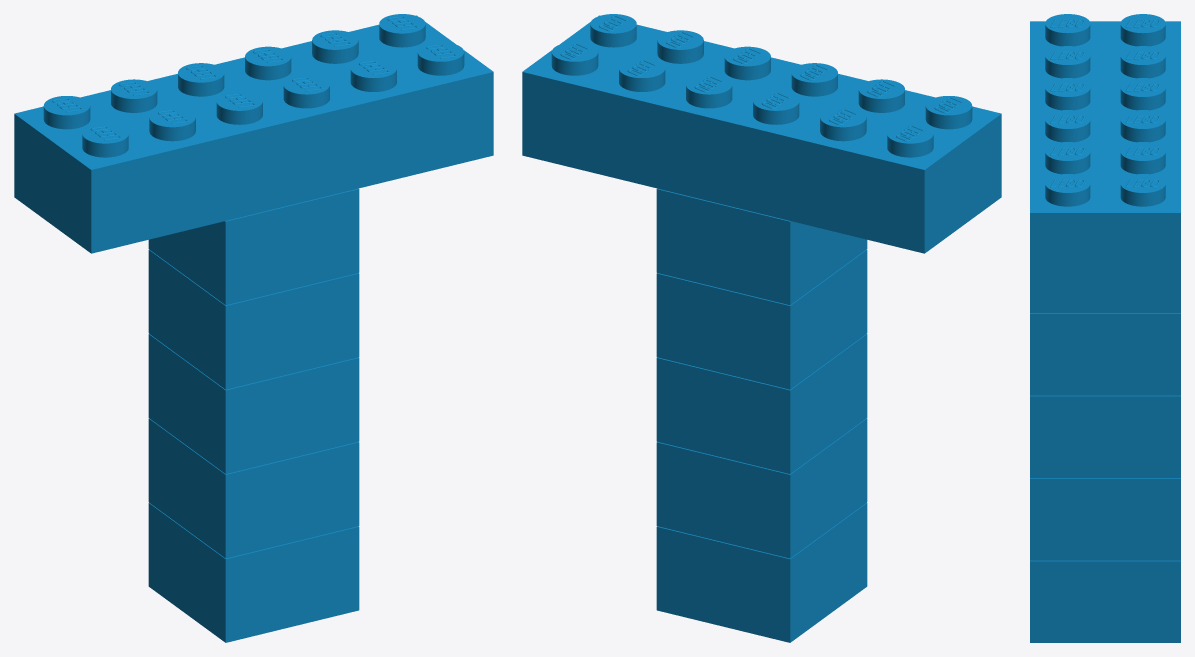
3 views of the same model, side by side, from view 1: azimuth 30°, elevation 25°; view 2: azimuth 150°, elevation 25°; view 3: azimuth 270°, elevation 25° (orthographic). The views are drawn at different scales.
Visible parts, largest first — view 1: Inner-Node-T_dot_io-4, Inner-Node-T_dot_io-3, Inner-Node-T_dot_io-1, Inner-Node-T_dot_io-2, Inner-Node-T_dot_io-0, Inner-Node-T_dot_io-5; view 2: Inner-Node-T_dot_io-4, Inner-Node-T_dot_io-3, Inner-Node-T_dot_io-1, Inner-Node-T_dot_io-2, Inner-Node-T_dot_io-0, Inner-Node-T_dot_io-5; view 3: Inner-Node-T_dot_io-4, Inner-Node-T_dot_io-0, Inner-Node-T_dot_io-1, Inner-Node-T_dot_io-2, Inner-Node-T_dot_io-3, Inner-Node-T_dot_io-5.
Part boxes in pixels (box(x1,y1,x2,y2)): Inner-Node-T_dot_io-4: box(14, 14, 493, 253); Inner-Node-T_dot_io-3: box(148, 418, 359, 558); Inner-Node-T_dot_io-1: box(148, 334, 359, 473); Inner-Node-T_dot_io-2: box(148, 249, 359, 389); Inner-Node-T_dot_io-0: box(148, 502, 359, 642); Inner-Node-T_dot_io-5: box(148, 188, 359, 305); Inner-Node-T_dot_io-4: box(522, 14, 1001, 253); Inner-Node-T_dot_io-3: box(656, 418, 867, 558); Inner-Node-T_dot_io-1: box(656, 334, 867, 473); Inner-Node-T_dot_io-2: box(656, 249, 867, 389); Inner-Node-T_dot_io-0: box(656, 502, 867, 642); Inner-Node-T_dot_io-5: box(656, 188, 867, 305); Inner-Node-T_dot_io-4: box(1030, 14, 1180, 294); Inner-Node-T_dot_io-0: box(1030, 560, 1180, 642); Inner-Node-T_dot_io-1: box(1030, 395, 1180, 477); Inner-Node-T_dot_io-2: box(1030, 313, 1180, 395); Inner-Node-T_dot_io-3: box(1030, 478, 1180, 560); Inner-Node-T_dot_io-5: box(1030, 294, 1180, 313).
Bounding box in the file's own units: 120 × 148 × 39.75.
